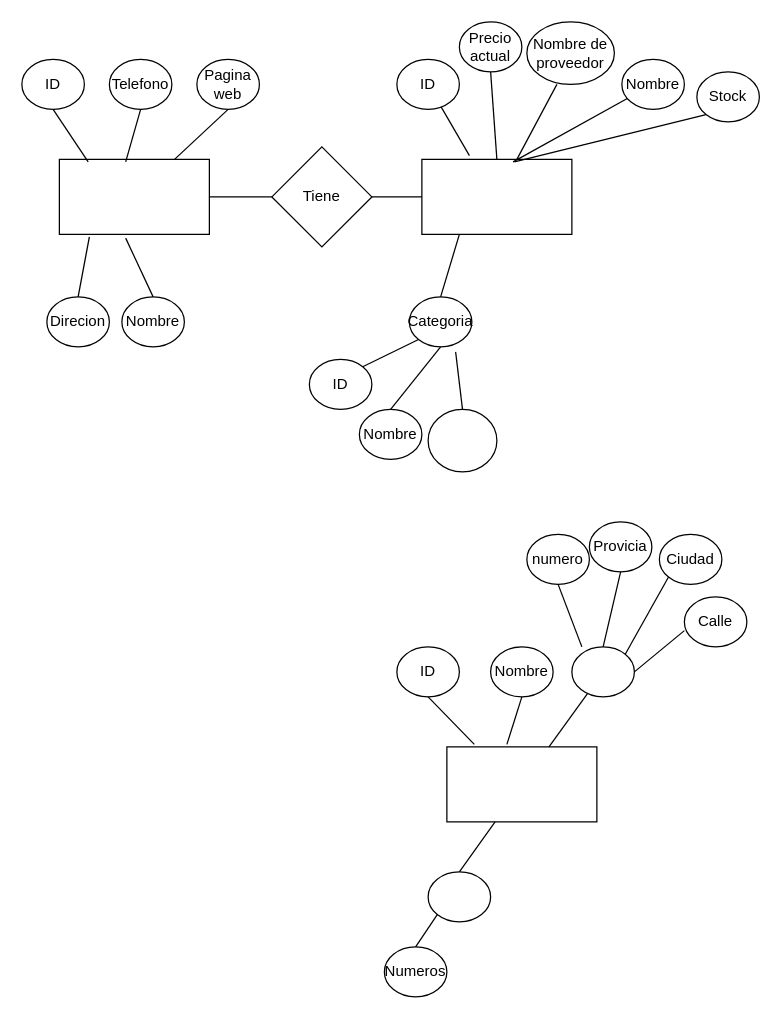
The diagram is 781 pixels wide and 1019 high, and some of its shapes have lost their labels. Here are the shapes that lost their labels. From the top down, the centre of each, then its label:
At (133,196): "Proveedor".
At (496,196): "Producto".
At (462,440): "Description".
At (602,671): "Direccion".
At (521,784): "Cliente".
At (459,896): "Contactos".
